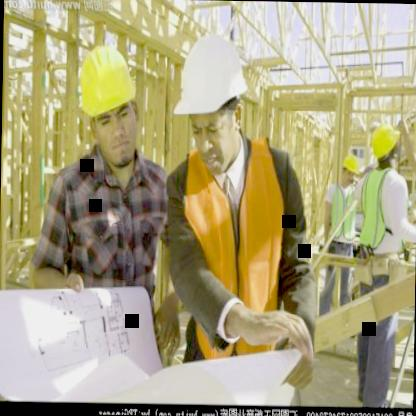helmet: (174, 30, 248, 176), (74, 39, 142, 167), (369, 118, 402, 170), (338, 152, 362, 188)
